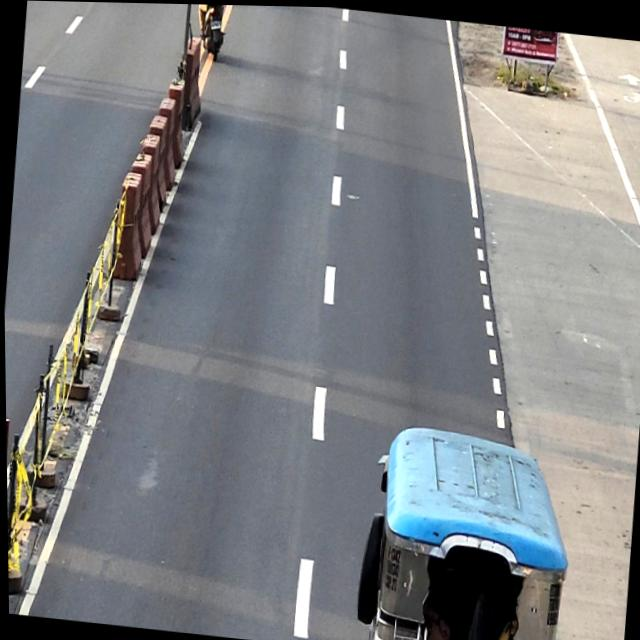Jeep: (348, 419, 577, 640)
License-Plate: (210, 18, 220, 29)
Motorcycle: (194, 3, 228, 65)
